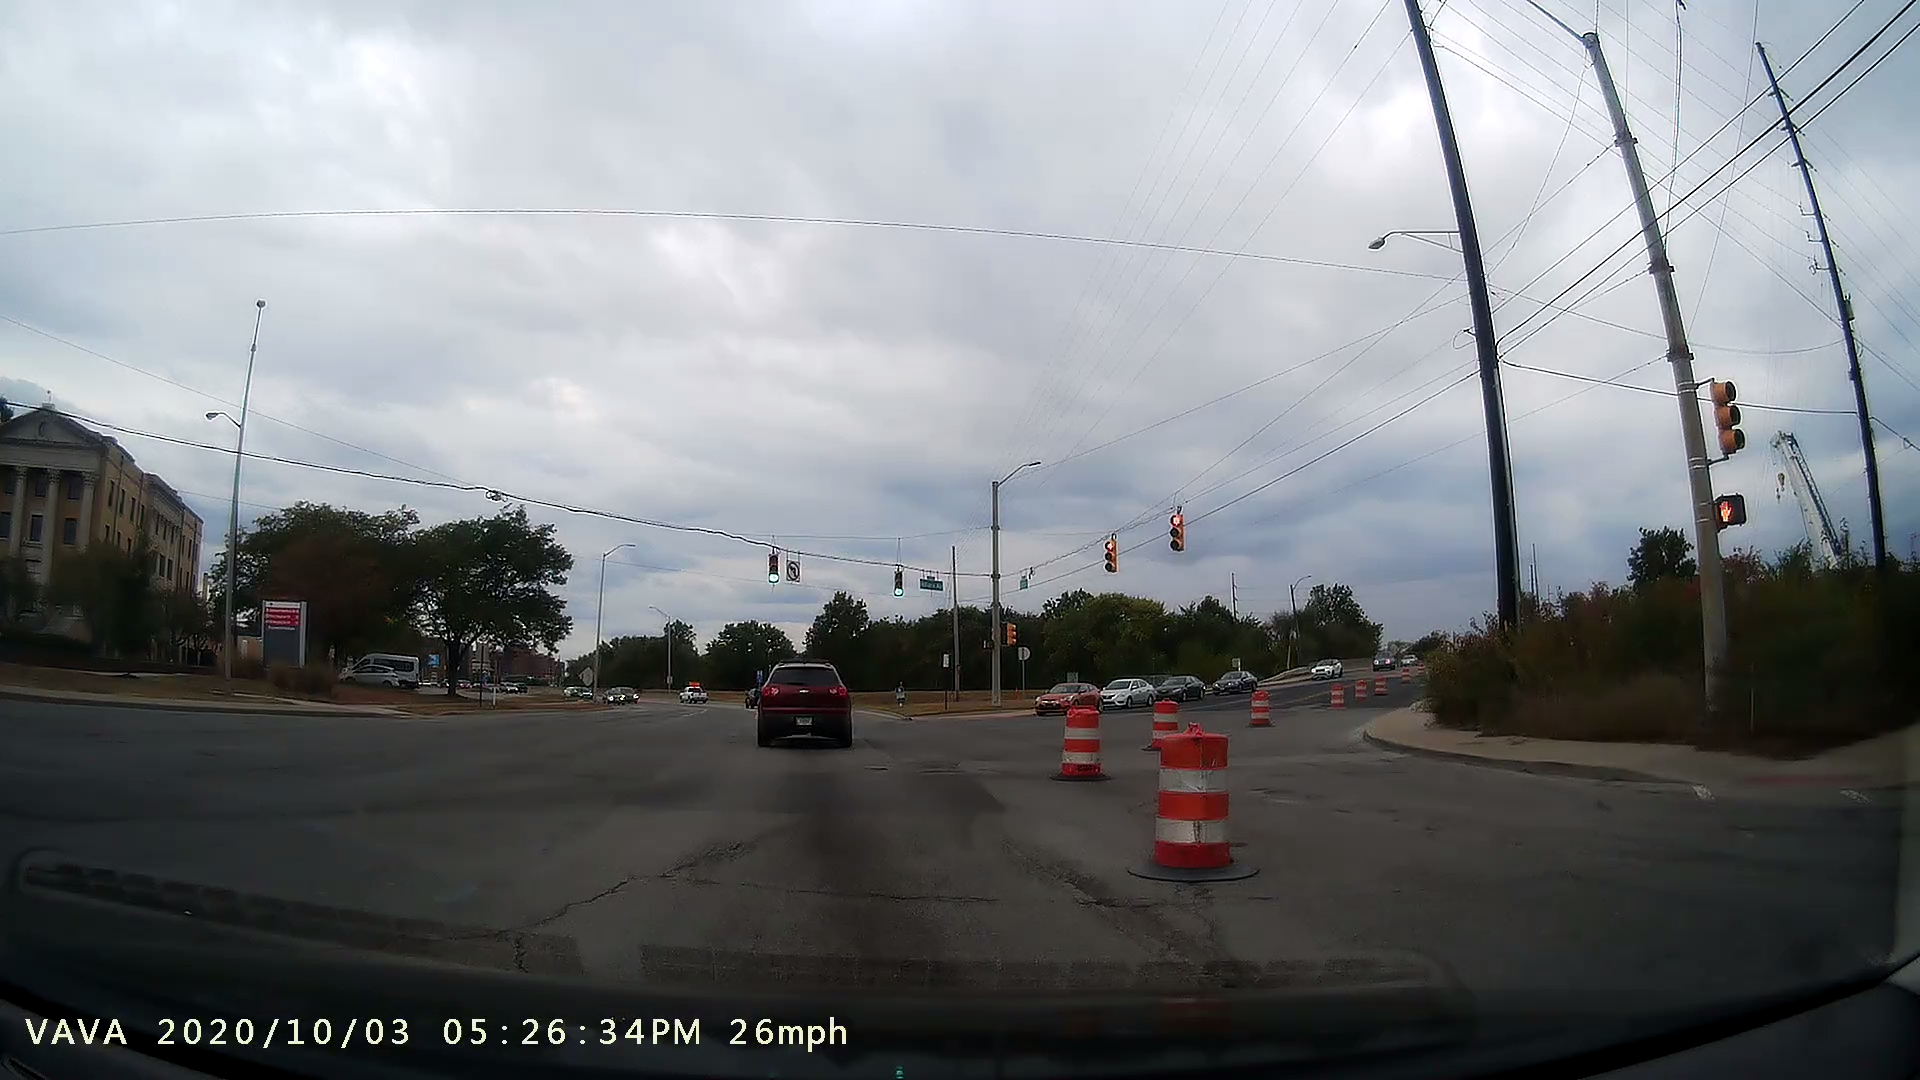const_barrel: (1124, 713, 1265, 886), (1038, 698, 1109, 786), (1246, 687, 1280, 735)
